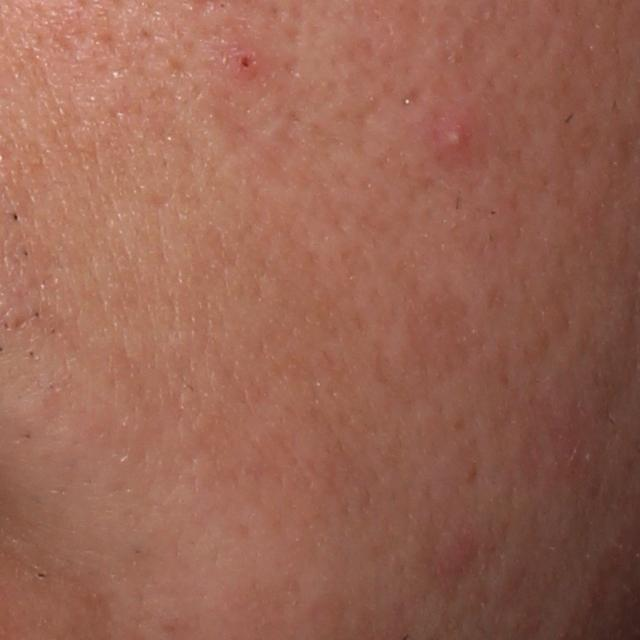papule: (429, 530, 480, 581), (229, 38, 270, 80)
pustule: (437, 118, 480, 161)
